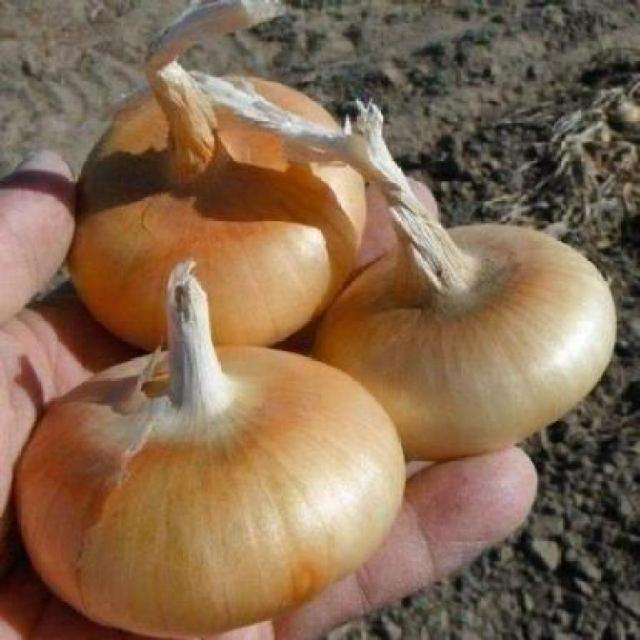Onion: (15, 262, 405, 638), (68, 94, 368, 350), (314, 228, 617, 461)
